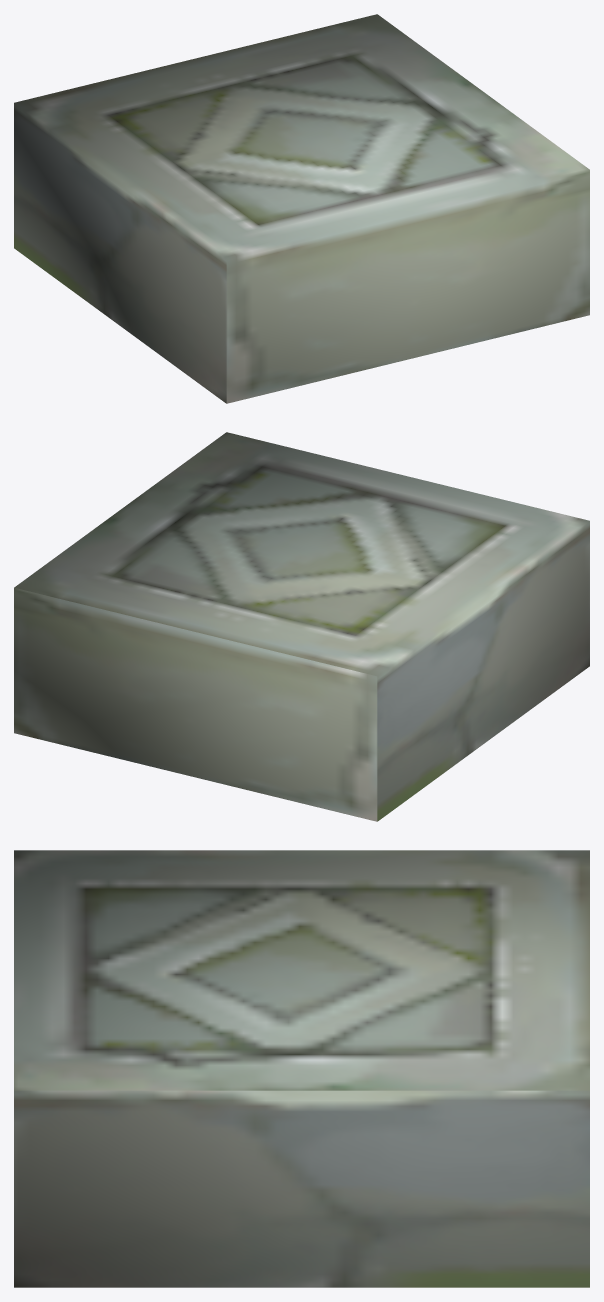
File: Map_06_brick18.FBX
3 renders of one model, top to bottom at view 1: azimuth 30°, elevation 25°; view 2: azimuth 150°, elevation 25°; view 3: azimuth 270°, elevation 25°, orthographic. The views are drawn at different scales.
Visible parts, largest first — view 1: Map_06_brick18; view 2: Map_06_brick18; view 3: Map_06_brick18.
Boxes of the visible parts, x1,y1,x2,y2 form: Map_06_brick18: (14,14,589,403); Map_06_brick18: (14,432,589,821); Map_06_brick18: (14,850,589,1287).
Bounding box in the file's own units: 75.02 × 76 × 28.69.
